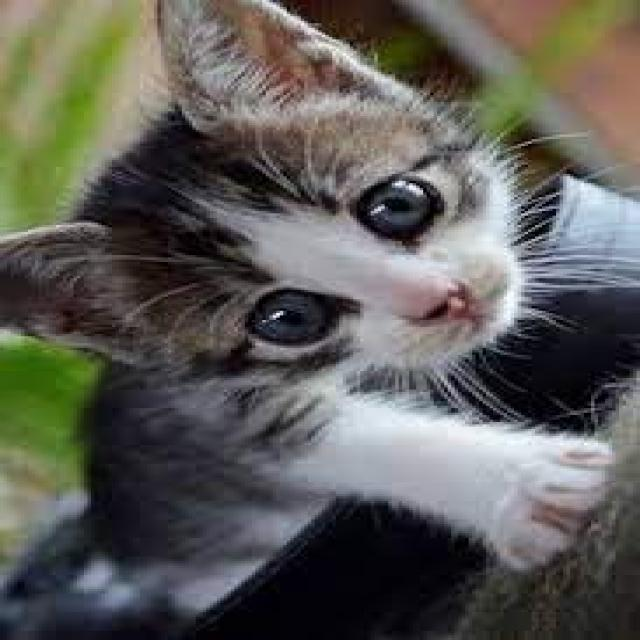Cat: (4, 1, 619, 577)
